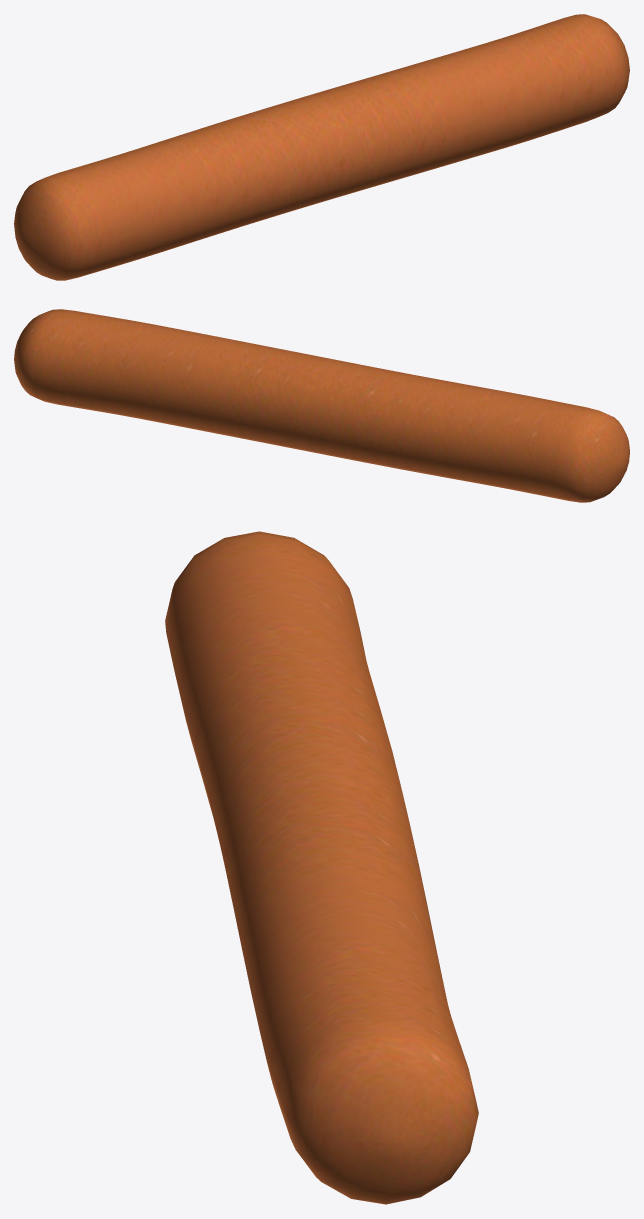
Rendered from sausage.fbx.
3 views of the same model, one above another, from view 1: azimuth 30°, elevation 25°; view 2: azimuth 150°, elevation 25°; view 3: azimuth 270°, elevation 25° (orthographic). The views are drawn at different scales.
Visible parts, largest first — view 1: Model_030_Frankforter_Pork_04; view 2: Model_030_Frankforter_Pork_04; view 3: Model_030_Frankforter_Pork_04.
Boxes of the visible parts, x1=… form: Model_030_Frankforter_Pork_04: x1=14, y1=14, x2=629, y2=280; Model_030_Frankforter_Pork_04: x1=14, y1=309, x2=629, y2=502; Model_030_Frankforter_Pork_04: x1=165, y1=531, x2=478, y2=1204.
Bounding box in the file's own units: 25.1 × 3.66 × 5.97.
